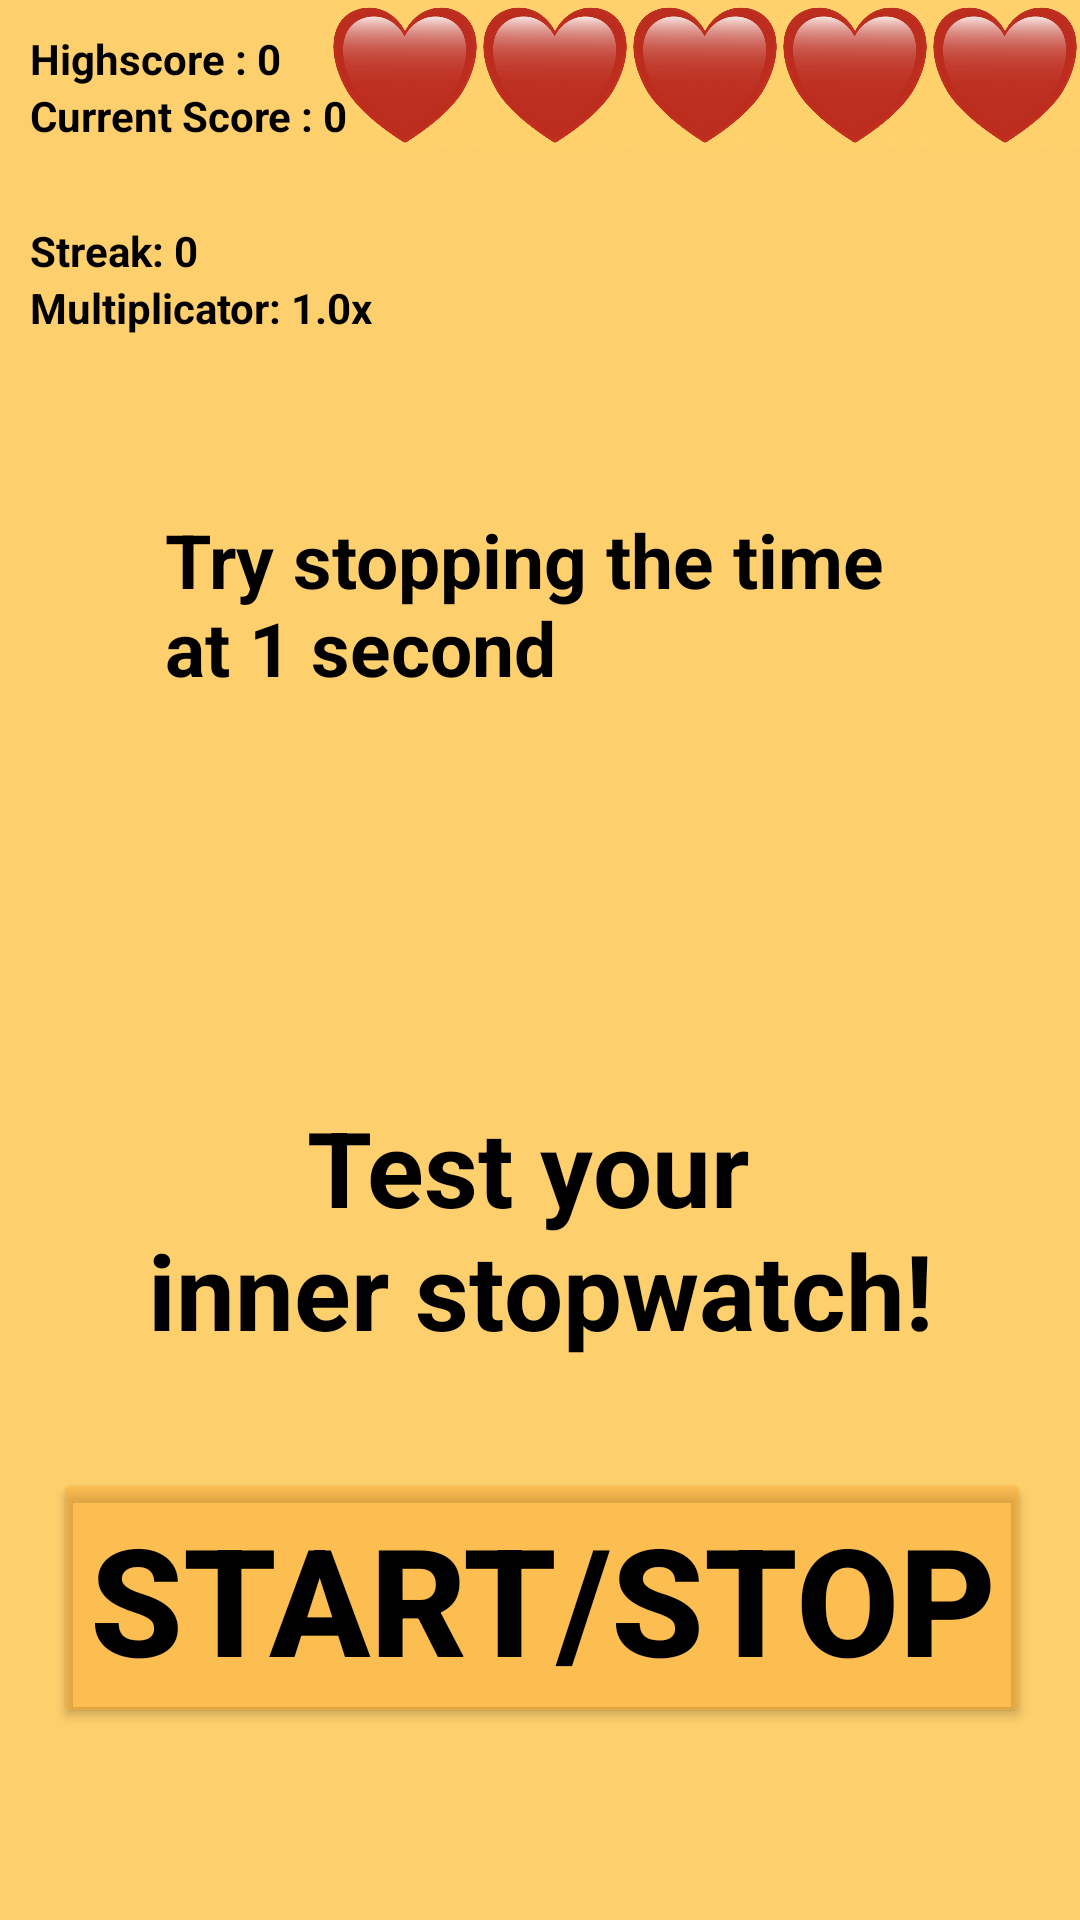

Locate icon controls on the screen. Image size 1080px×1920px, boxes as [x1, y1, x2, y2].
single heart old: [330, 7, 477, 143], [483, 7, 627, 143], [633, 7, 777, 143], [783, 7, 927, 143], [933, 7, 1077, 143]
